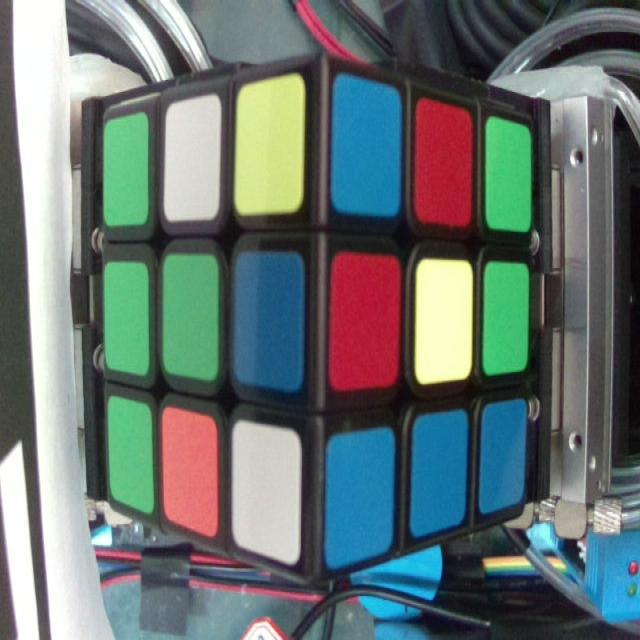b: (238, 253, 299, 389), (330, 434, 393, 558), (338, 76, 394, 212), (404, 420, 470, 529), (483, 409, 529, 507)
g: (166, 256, 218, 371), (106, 263, 150, 372), (105, 117, 149, 224), (490, 116, 531, 227), (110, 400, 151, 509), (489, 266, 526, 374)
o: (164, 411, 217, 528)
r: (334, 254, 401, 386), (417, 98, 475, 222)
w: (237, 429, 299, 554), (166, 99, 220, 216)
y: (237, 86, 300, 210), (416, 263, 471, 376)
